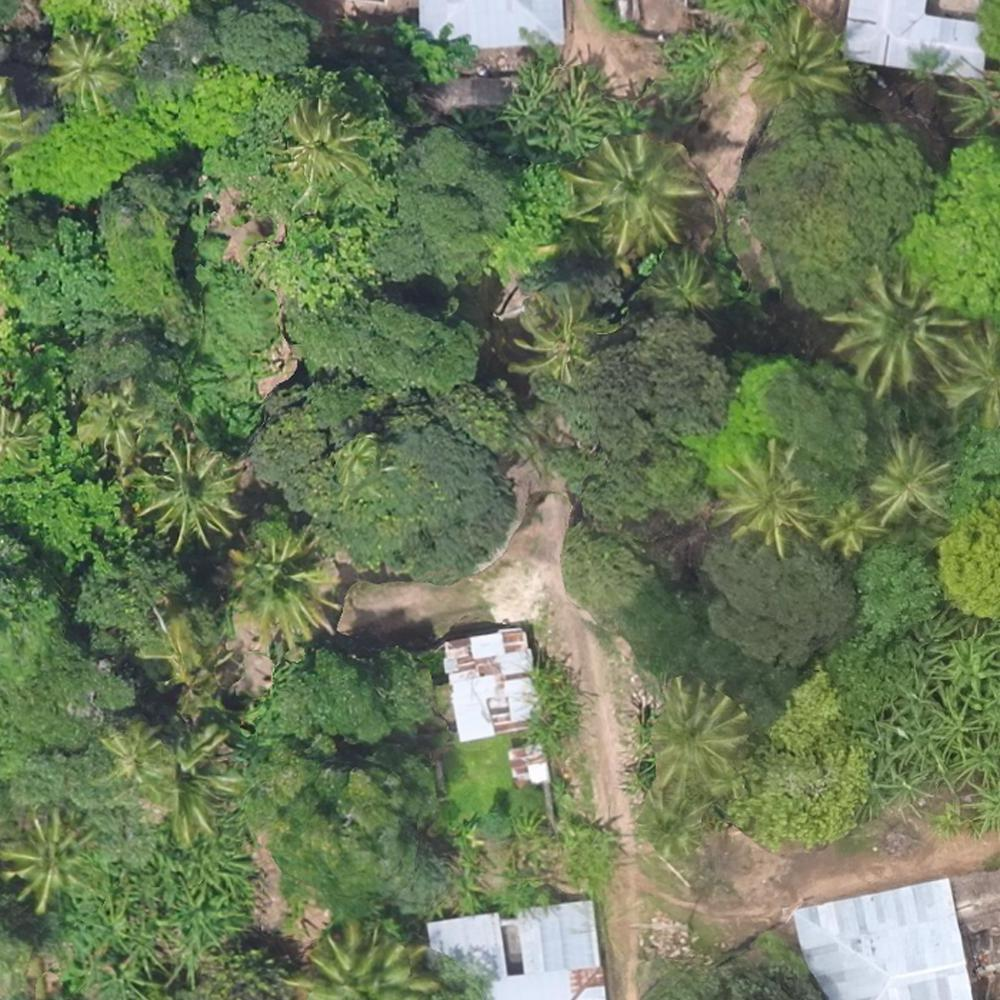Palm: (570, 131, 699, 249), (835, 268, 949, 391), (142, 440, 240, 547), (715, 444, 812, 552), (651, 680, 748, 784), (8, 811, 99, 911), (249, 543, 340, 640), (748, 15, 845, 98), (513, 292, 600, 379), (868, 436, 953, 520), (280, 97, 363, 182), (46, 30, 126, 107), (817, 498, 884, 558)
